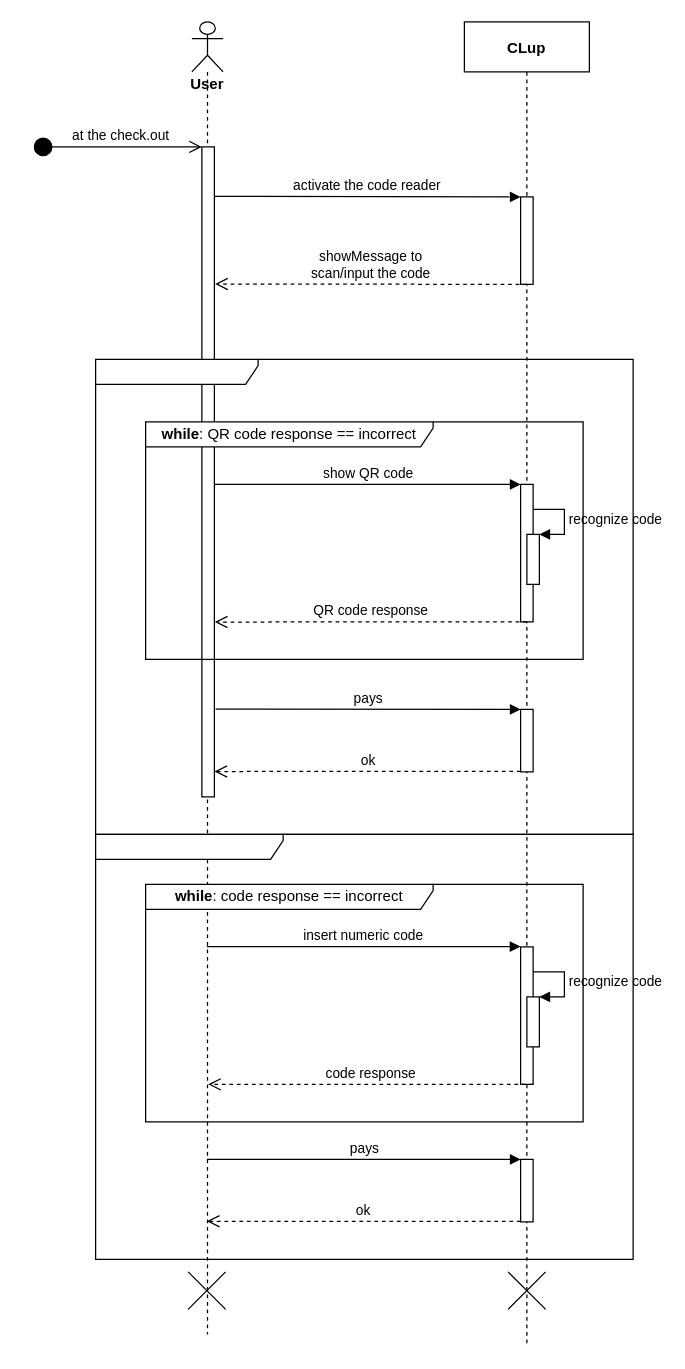
Image size: 685x1369. Some labels were removed from this diagram. Each missing label, with the centre of its shape:
alt : uses numeric code: (x=363, y=1046)
alt : uses QR code: (x=363, y=596)
